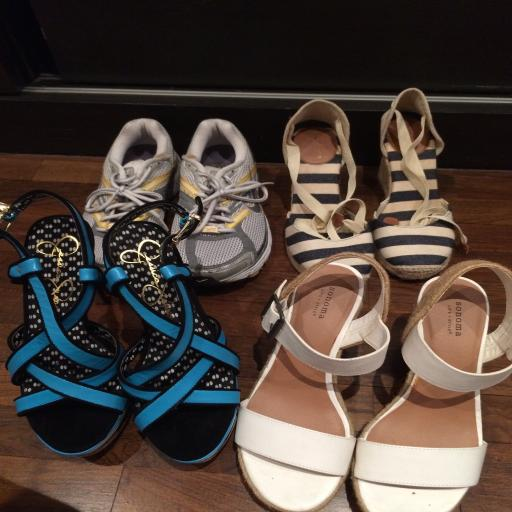heels: (360, 279, 510, 512), (242, 260, 376, 505), (6, 192, 119, 464), (122, 206, 236, 472), (282, 90, 381, 278), (385, 88, 473, 274)
shoe: (172, 119, 272, 285), (83, 118, 180, 270)
